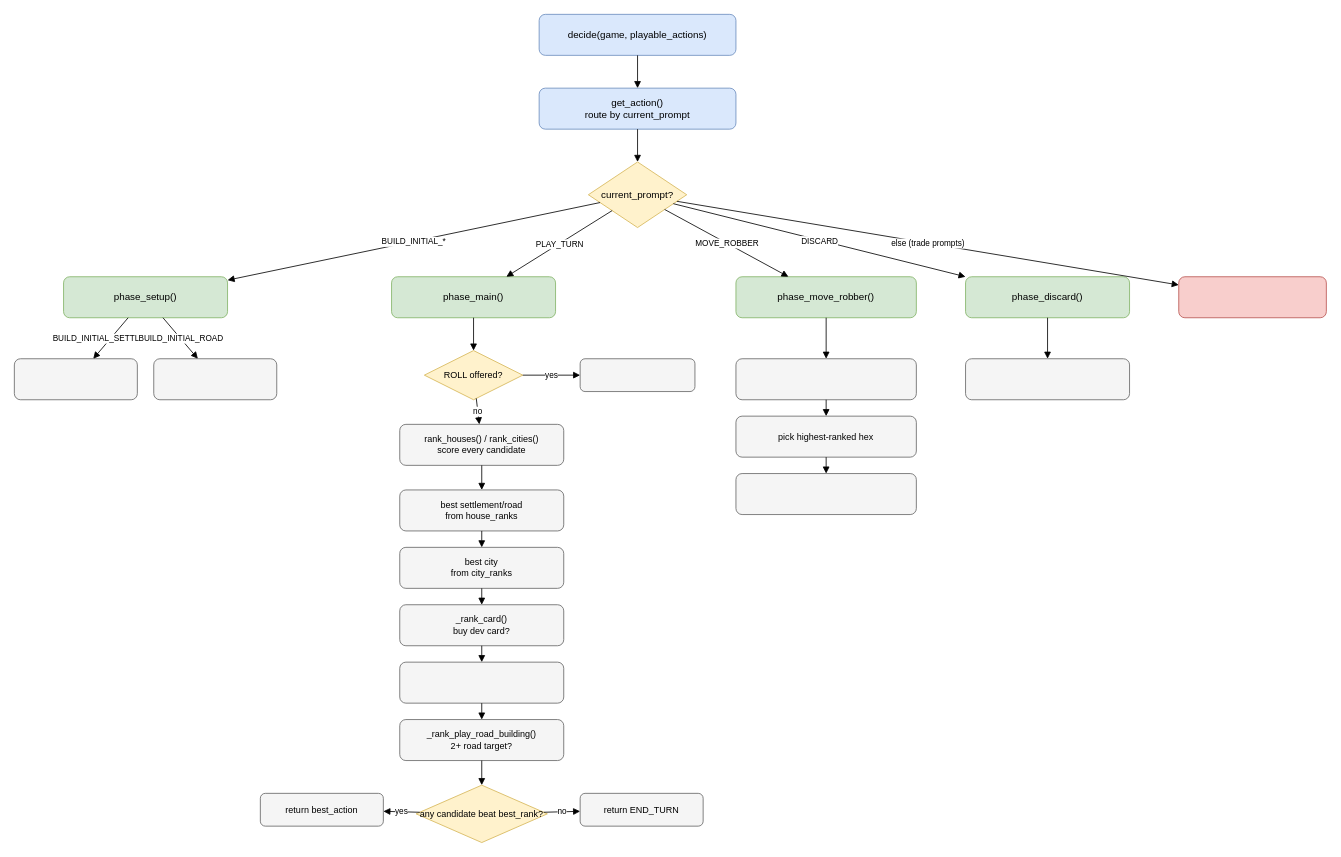
Image size: 1341x857. Some labels were removed from this diagram. Each missing label, with the centre of its shape:
_rank_play_knight() unblock robber / take army: the point at 481,682
among victims there, pick richest hand: the point at 825,494
fallback: playable_actions[0]: the point at 1252,297
initial_house() best-ranked empty corner: the point at 75,379
initial_road() random legal target: the point at 215,379
random.choice(playable_actions) discard one resource: the point at 1047,379
return ROLL: the point at 637,375
score each land hex (skip desert, skip self-blocked): the point at 825,379
